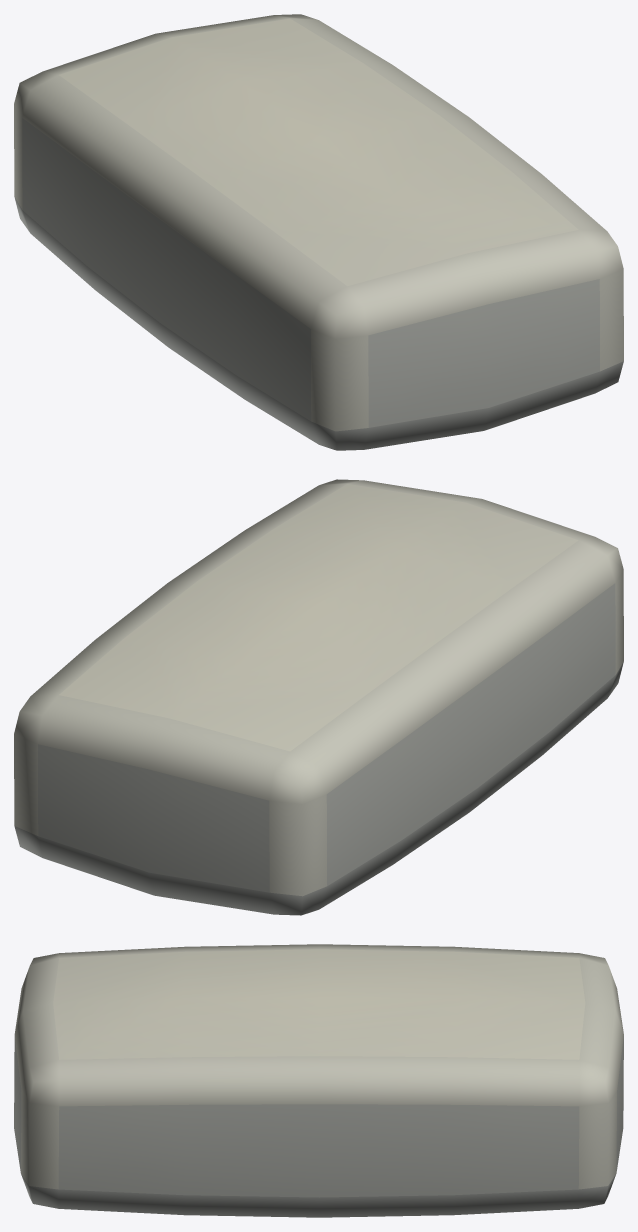
The model's file is border_stone1_LOD_setup.fbx.
3 views of the same model, one above another, from view 1: azimuth 30°, elevation 25°; view 2: azimuth 150°, elevation 25°; view 3: azimuth 270°, elevation 25° (orthographic). The views are drawn at different scales.
Visible parts, largest first — view 1: border_stone1_LOD0; view 2: border_stone1_LOD0; view 3: border_stone1_LOD0.
Part boxes in pixels (box(x1,y1,x2,y2)): border_stone1_LOD0: box(14, 14, 623, 450); border_stone1_LOD0: box(14, 479, 623, 915); border_stone1_LOD0: box(14, 944, 623, 1217).
Size of what is drawn, in the model's own units: 57.86 by 32.18 by 107.
